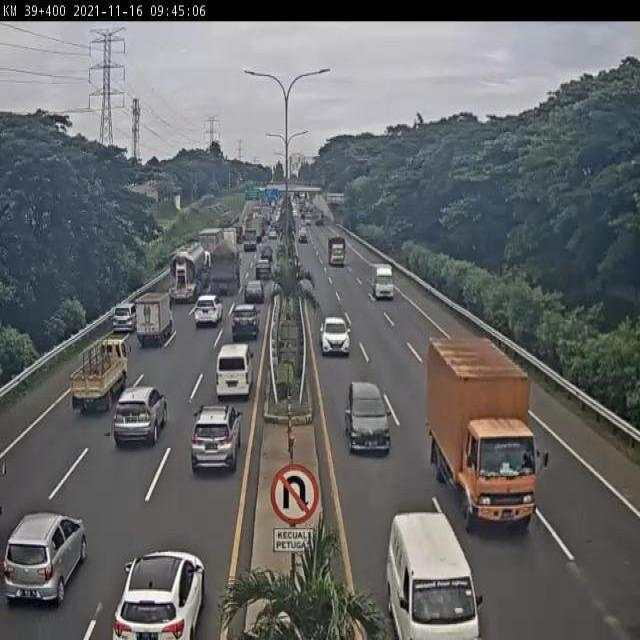car: (386, 510, 483, 640), (115, 554, 206, 640), (3, 513, 86, 603), (190, 408, 244, 475), (344, 381, 390, 455), (112, 387, 166, 444), (319, 313, 352, 356), (232, 305, 259, 343), (110, 301, 140, 335), (194, 295, 222, 324), (244, 278, 266, 302)
small bus: (215, 343, 253, 396)
small truck: (71, 338, 129, 414), (135, 291, 175, 345), (370, 260, 395, 301)
truck-l-: (208, 241, 241, 295)
truck-m-: (427, 339, 536, 532)
truck-xl-: (168, 242, 211, 302)
